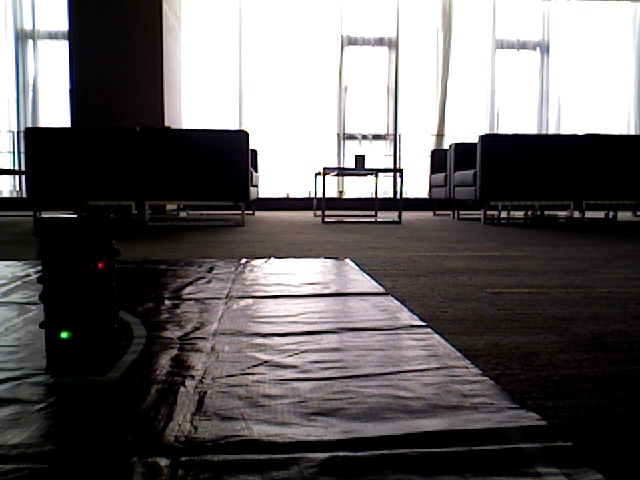green: (46, 265, 94, 365)
